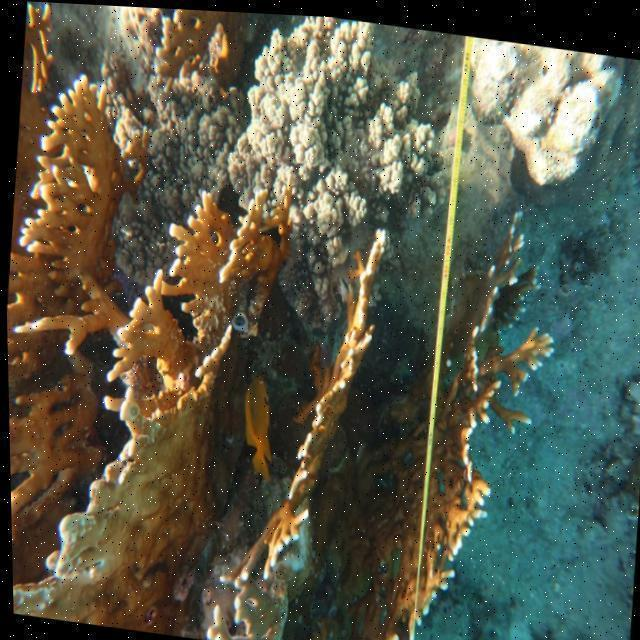Healthy Coral: (327, 186, 556, 640), (0, 0, 144, 573), (103, 164, 298, 421)
